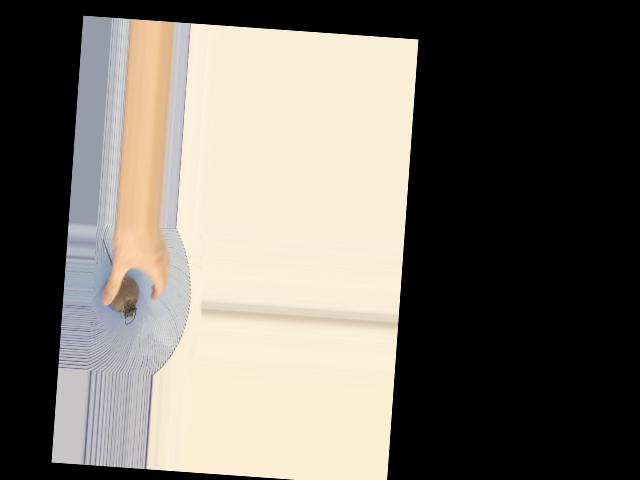beet: (96, 239, 142, 325)
